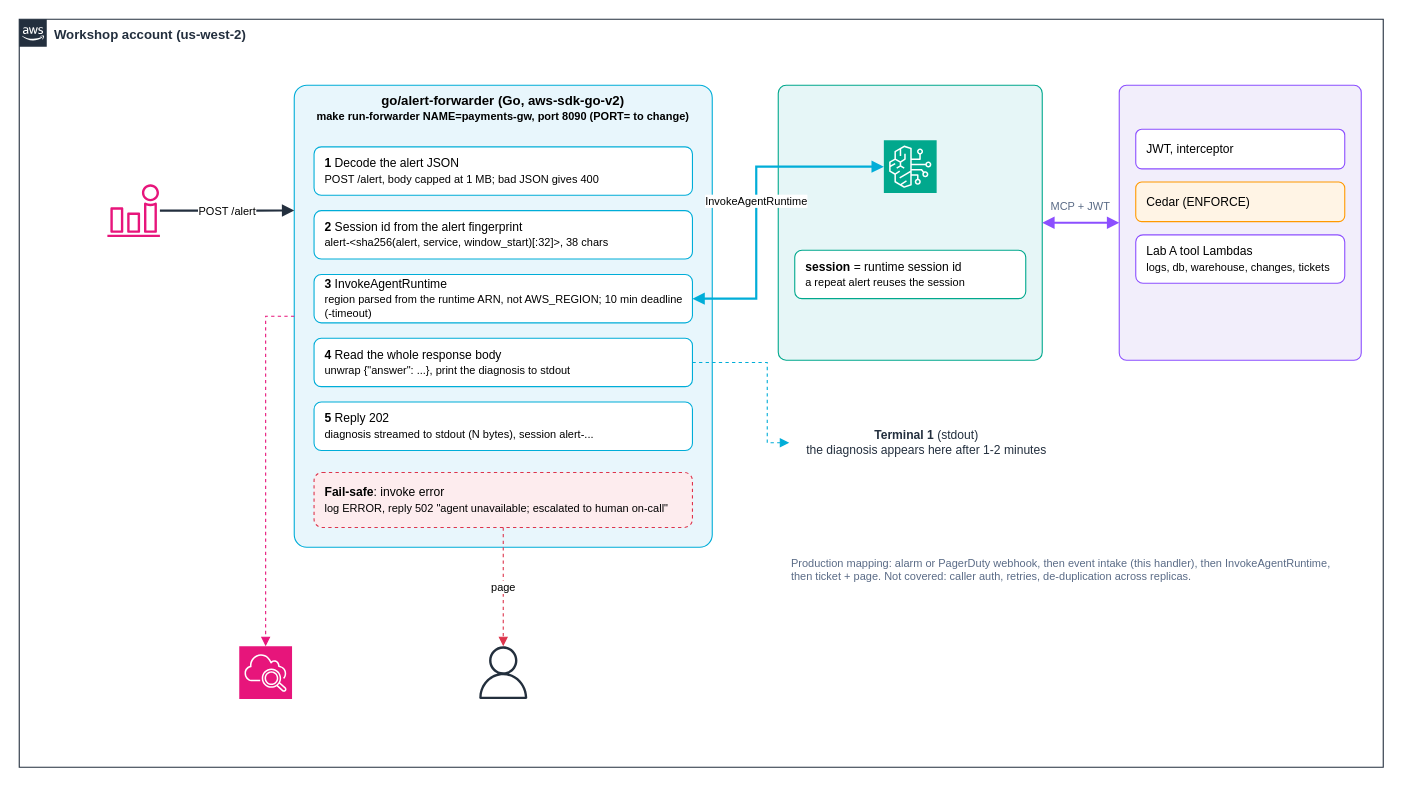
The diagram is 1403 pixels wide and 787 high, and some of its shapes have lost their labels. Here are the shapes that lost their labels. From the top down, the box of each, then its label:
(883, 139, 937, 193): Strands agent rendered payments-gw prompt
(107, 184, 160, 237): Alert webhook curl from terminal 2
(777, 84, 1042, 360): AgentCore Runtime fx_payments_gw
(1118, 84, 1361, 360): Gateway fx-payments-gw
(238, 645, 292, 699): stderr: slog JSON session_id, service, caller, commit
(476, 646, 529, 698): Human on-call in production: your paging system
